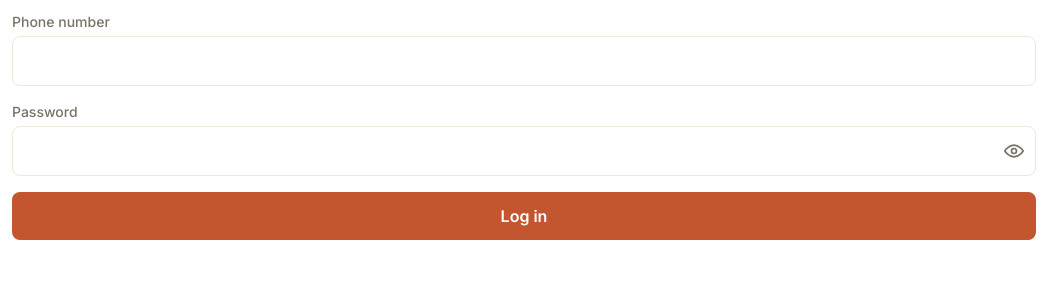
Test: LoginForm › shows the generic server error for wrong credentials
Type "3001234567" into the field labelled "Phone number" at (524, 61), box [12, 36, 1036, 86]
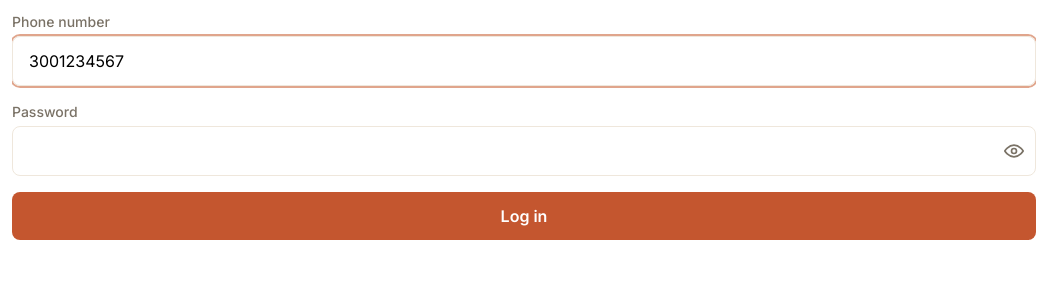
Type "WrongPass1" into the password field labelled "Password" at (524, 151), box [12, 126, 1036, 176]
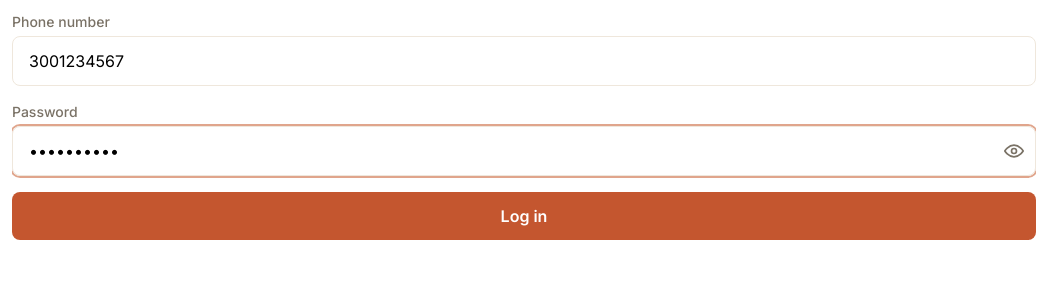
Click the button "Log in" at (524, 216), box [12, 192, 1036, 240]
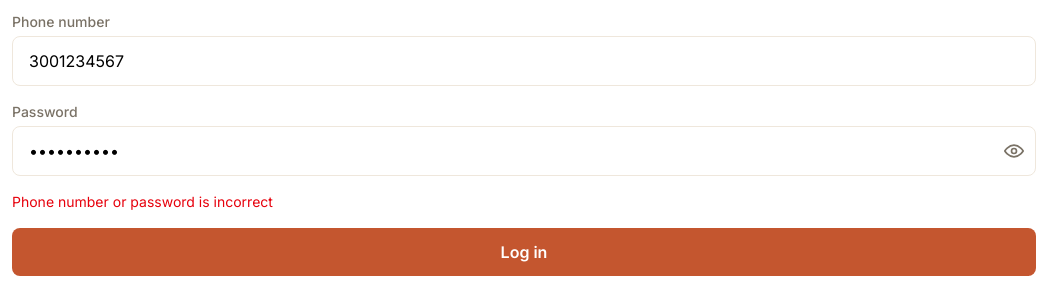
Now the text "Phone number or password is incorrect" is shown, box [12, 193, 273, 210]
